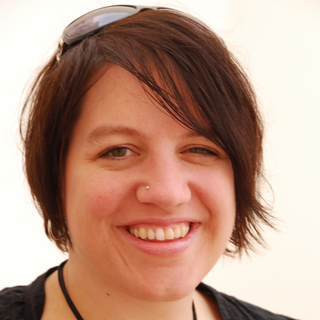eye: (87, 139, 142, 164), (175, 141, 224, 163)
